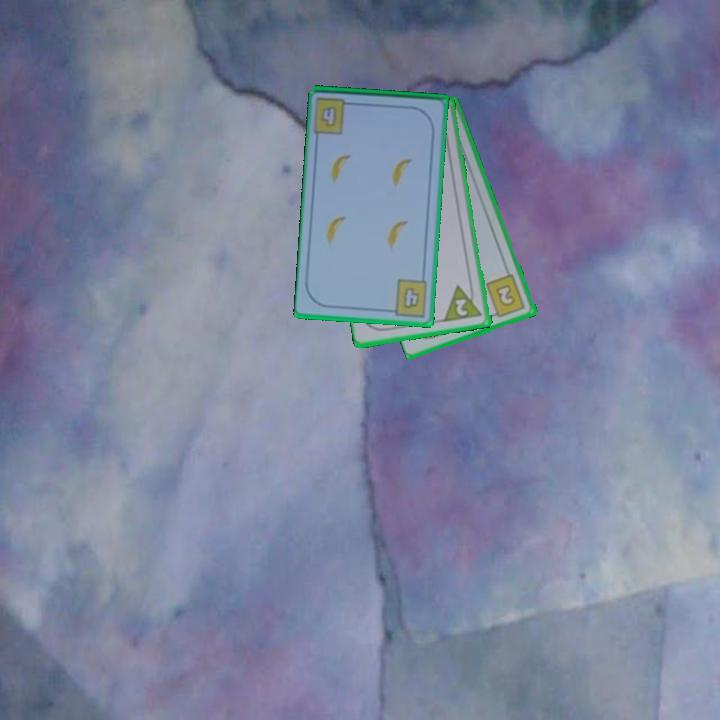2b: (483, 271, 528, 321)
2p: (441, 280, 485, 325)
4b: (385, 276, 431, 320), (317, 103, 340, 130)
